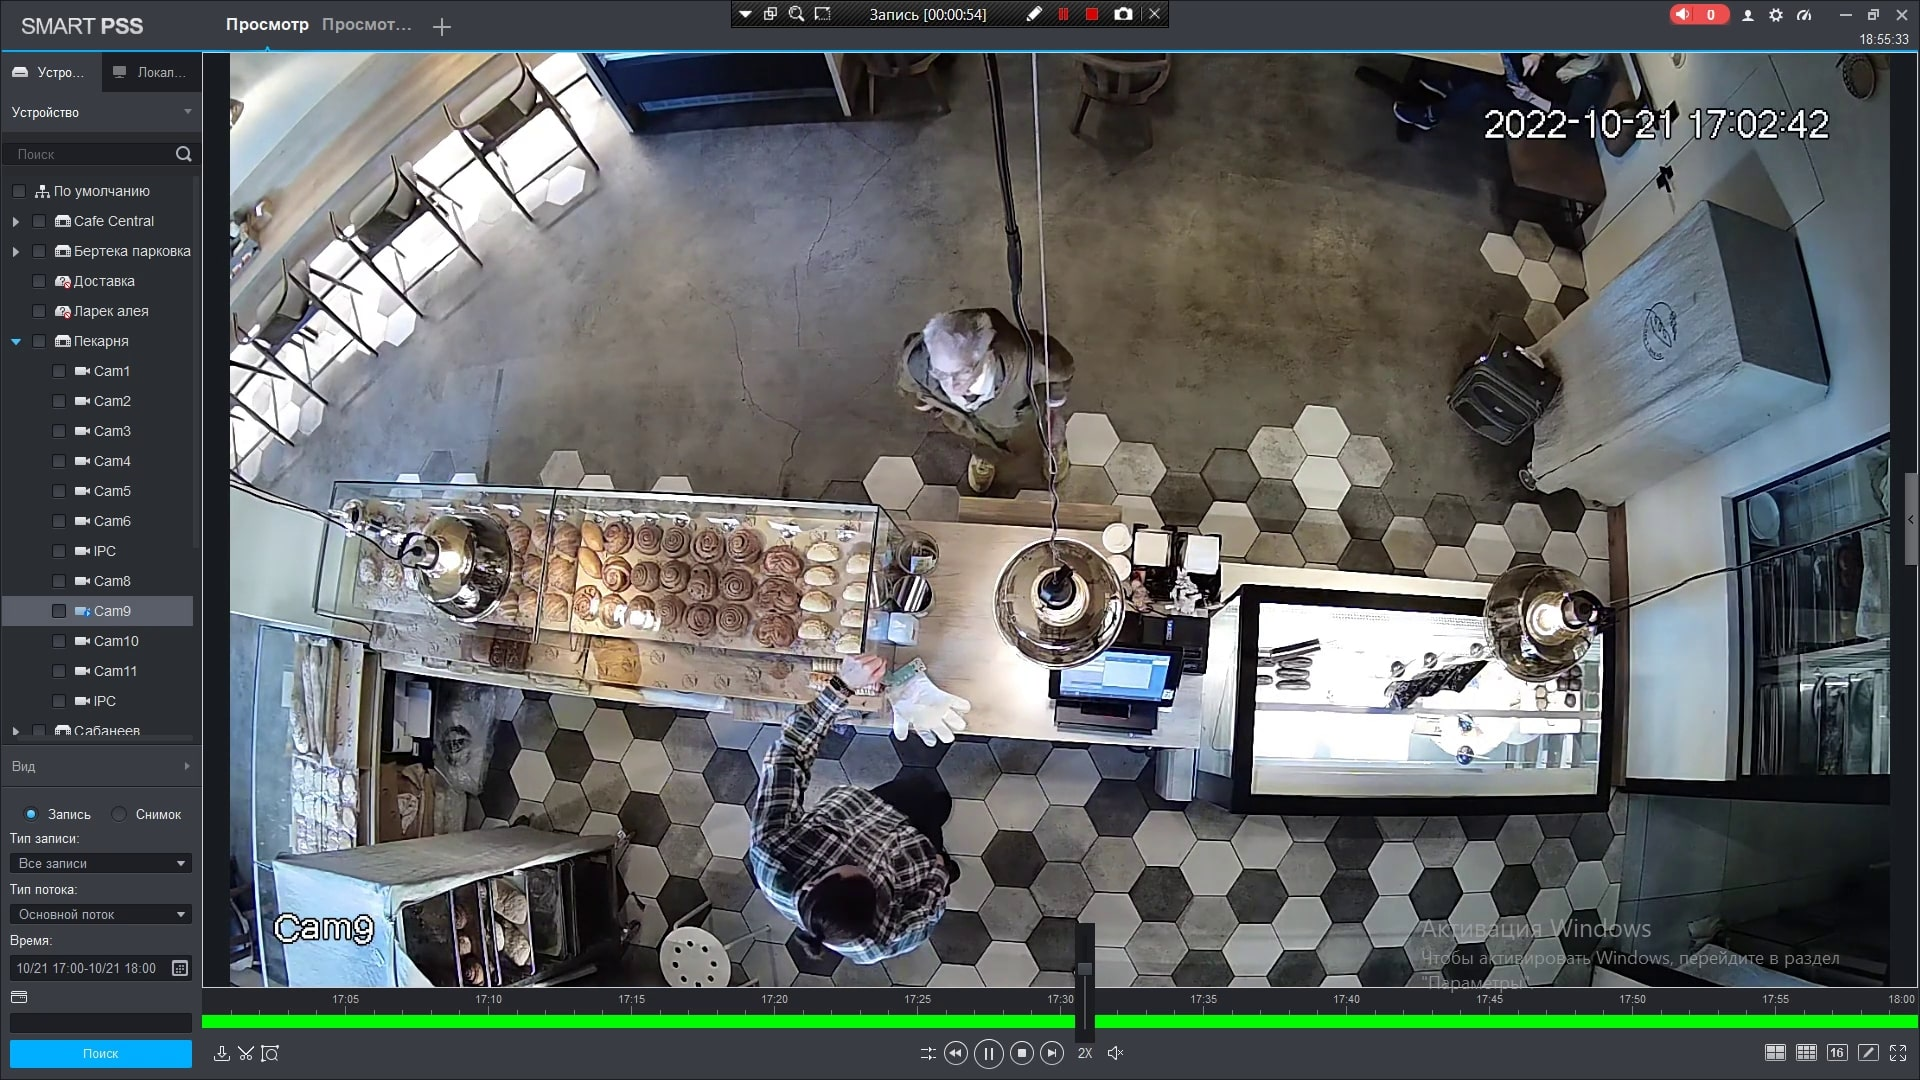barcounter: (305, 493, 1620, 806)
person: (731, 713, 976, 939), (895, 307, 1079, 478)
